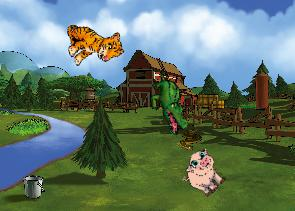crocodile: (136, 69, 202, 137)
pig: (176, 145, 232, 201)
tiger: (61, 13, 125, 71)
